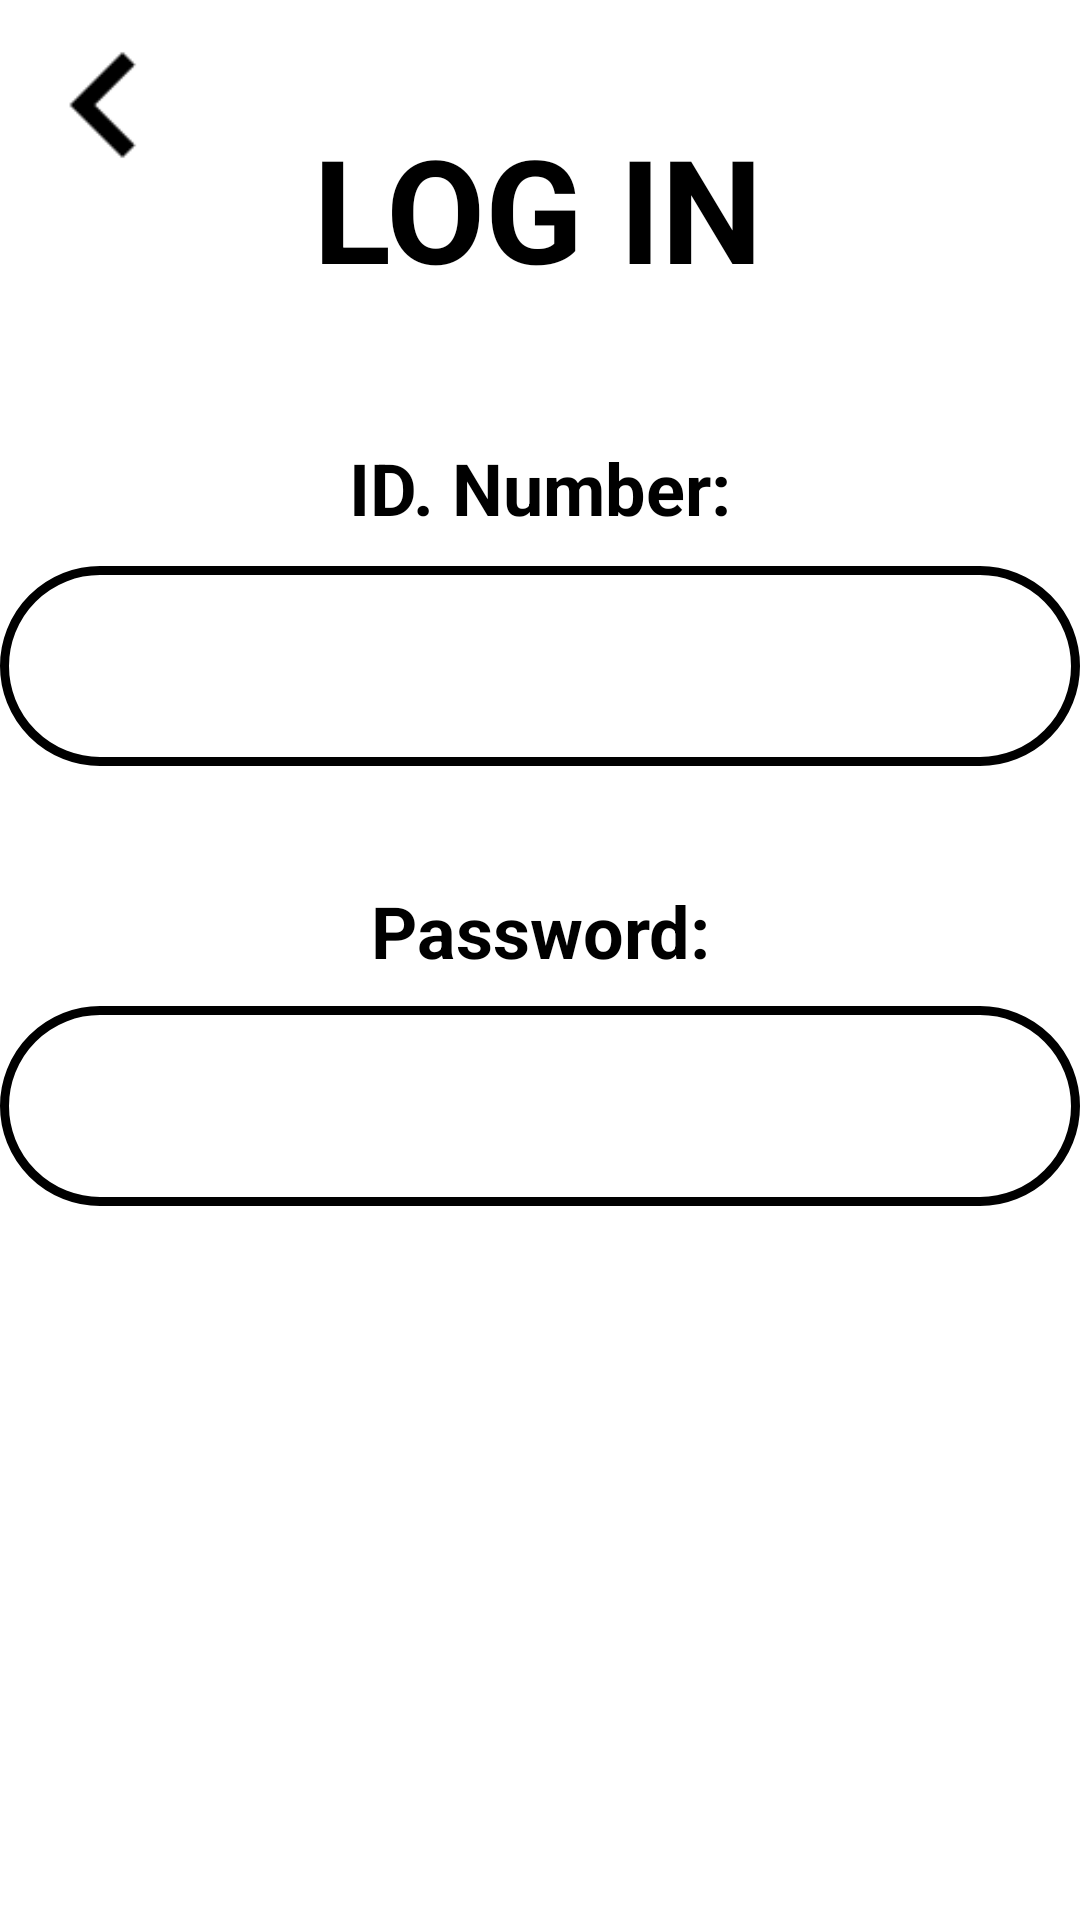

Locate icon controls on the screen. Image size 1080×1920, boxes as bbox=[x1, y1, x2, y2].
next reversed: bbox=[69, 52, 136, 158]
